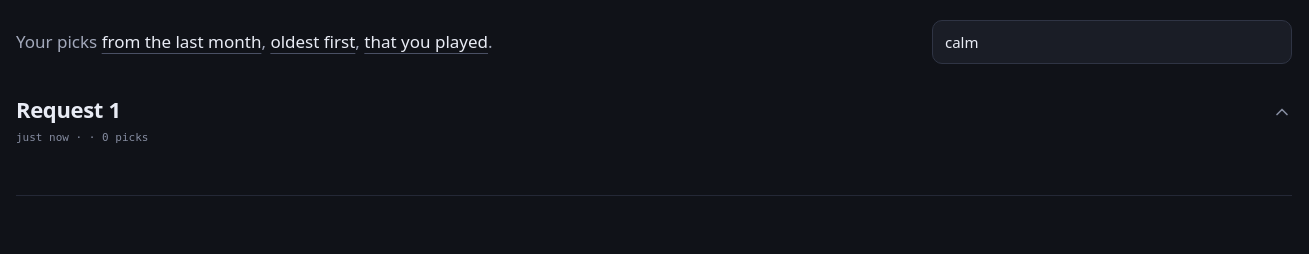
Test: History › asks for what the sentence says, and offers every pick back when nothing matches
Expected: the text "Request 1" is shown, [16, 94, 121, 124]
Expected: the button with aria-label "When: from the last month" is shown, [102, 16, 261, 67]
Click the button with aria-label "What came of them: that you played".
click(426, 42)  # box [364, 16, 488, 67]
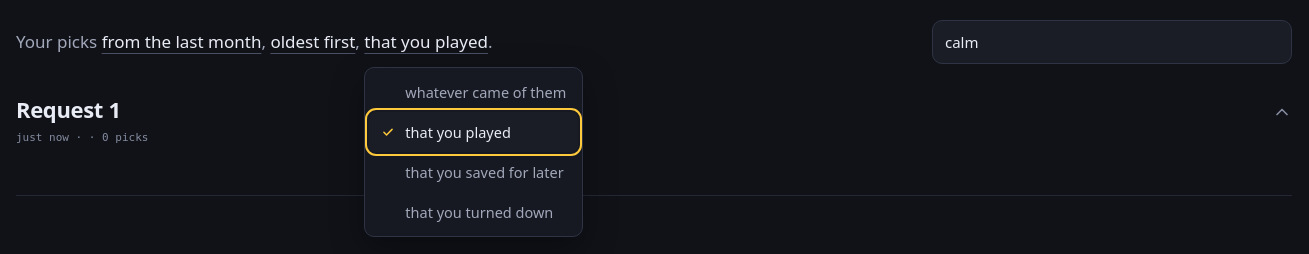
Click the menu item "that you turned down".
click(474, 212)  # box [369, 192, 578, 232]
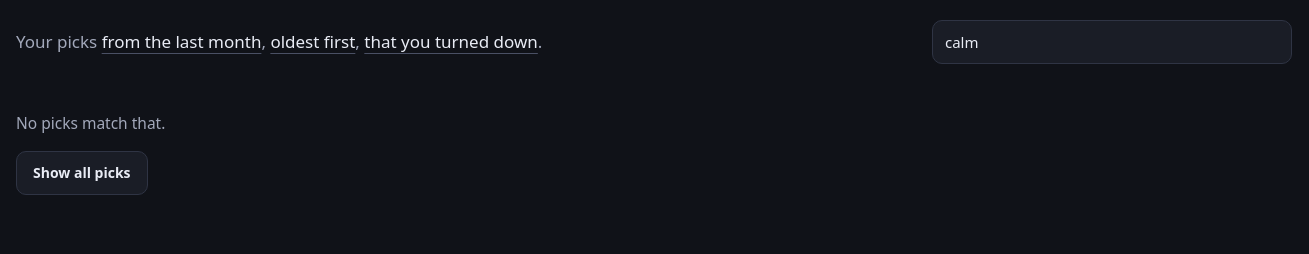
Result: the text "No picks match that." is shown at [16, 112, 165, 134]
Click the button "Show all picks".
click(82, 173)  # box [16, 151, 148, 195]
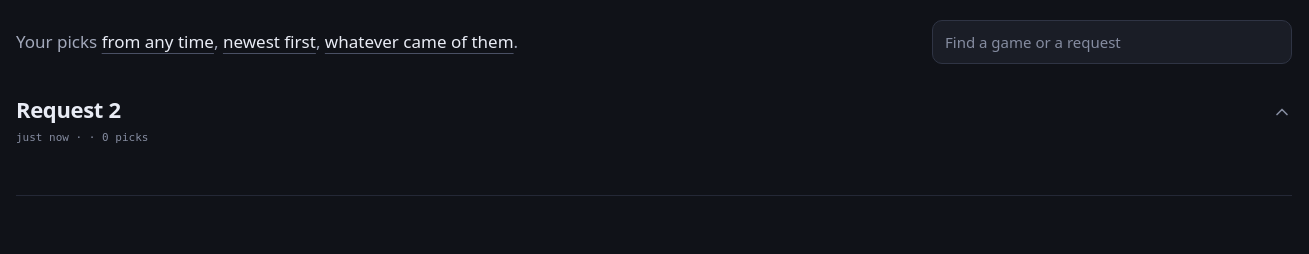
Result: the text "Request 2" is shown at [16, 94, 121, 124]
